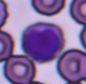L: (21, 21, 64, 62)
